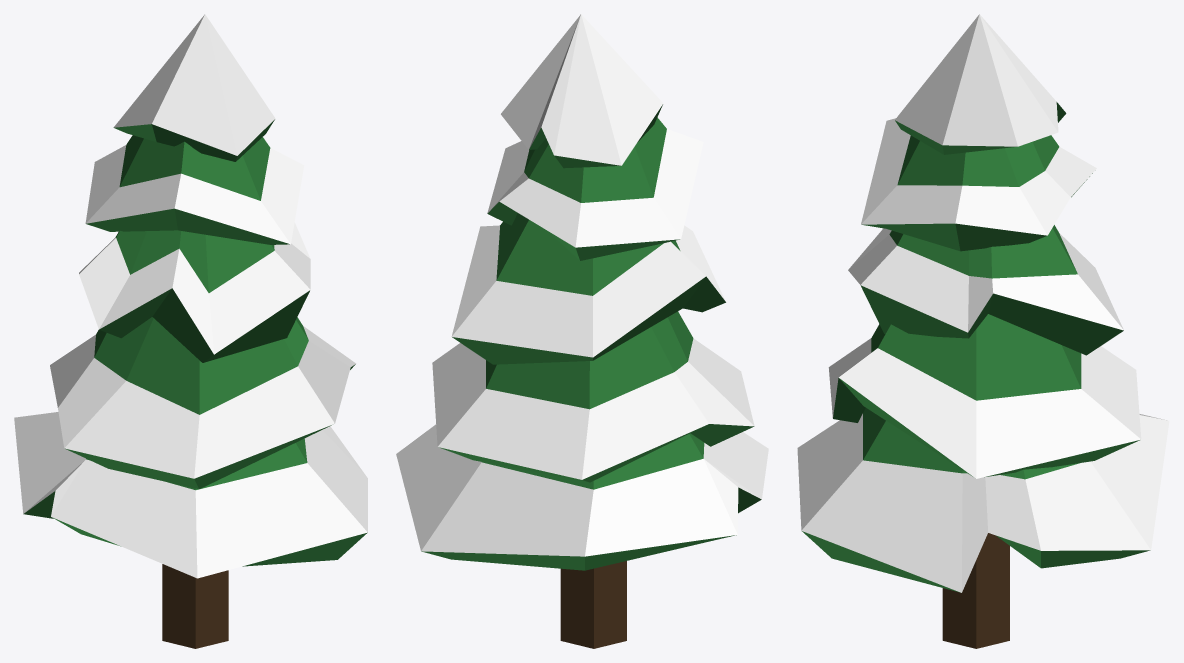
Rendered from Model_Frost_1x1B.fbx.
The picture shows the model from 3 angles, left to right: view 1: azimuth 30°, elevation 25°; view 2: azimuth 150°, elevation 25°; view 3: azimuth 270°, elevation 25°; orthographic projection.
Visible parts, largest first — view 1: xueshan_2shu_1_1; view 2: xueshan_2shu_1_1; view 3: xueshan_2shu_1_1.
Part boxes in pixels (x1,y1,x2,y2): xueshan_2shu_1_1: (14, 14, 367, 648); xueshan_2shu_1_1: (396, 14, 768, 648); xueshan_2shu_1_1: (797, 14, 1169, 648).
Bounding box in the file's own units: 187 × 340 × 184.
Materials: 1 (1 with a texture image).
